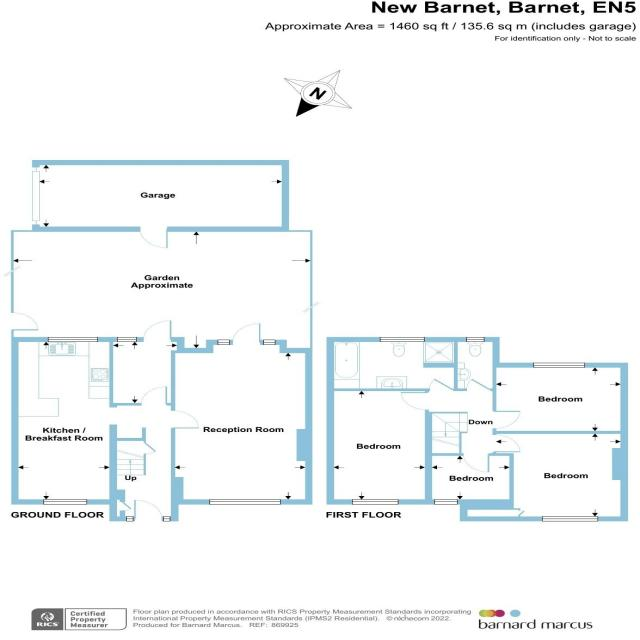DOOR: (138, 226, 168, 249), (142, 320, 172, 342), (232, 323, 261, 345), (134, 500, 163, 521), (400, 391, 429, 411), (171, 409, 199, 429), (492, 434, 521, 453), (11, 312, 40, 331), (463, 453, 490, 473), (493, 410, 521, 429)
ROOM: (11, 337, 200, 521), (171, 322, 312, 505), (460, 431, 628, 522), (326, 388, 432, 505), (492, 363, 628, 434), (109, 319, 178, 408), (425, 453, 514, 505)
WINDOW: (209, 499, 282, 505), (533, 362, 585, 368), (351, 499, 399, 505), (541, 516, 598, 521), (43, 499, 88, 505), (47, 337, 98, 342), (379, 337, 425, 342), (434, 499, 458, 505), (116, 337, 137, 342), (466, 337, 485, 342), (217, 339, 230, 345), (263, 339, 276, 345), (125, 516, 134, 522), (162, 516, 171, 522)
